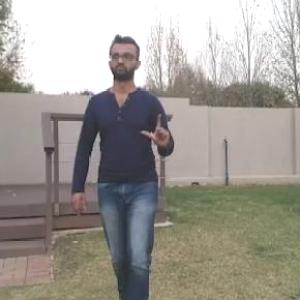land_hand: (138, 108, 172, 151)
